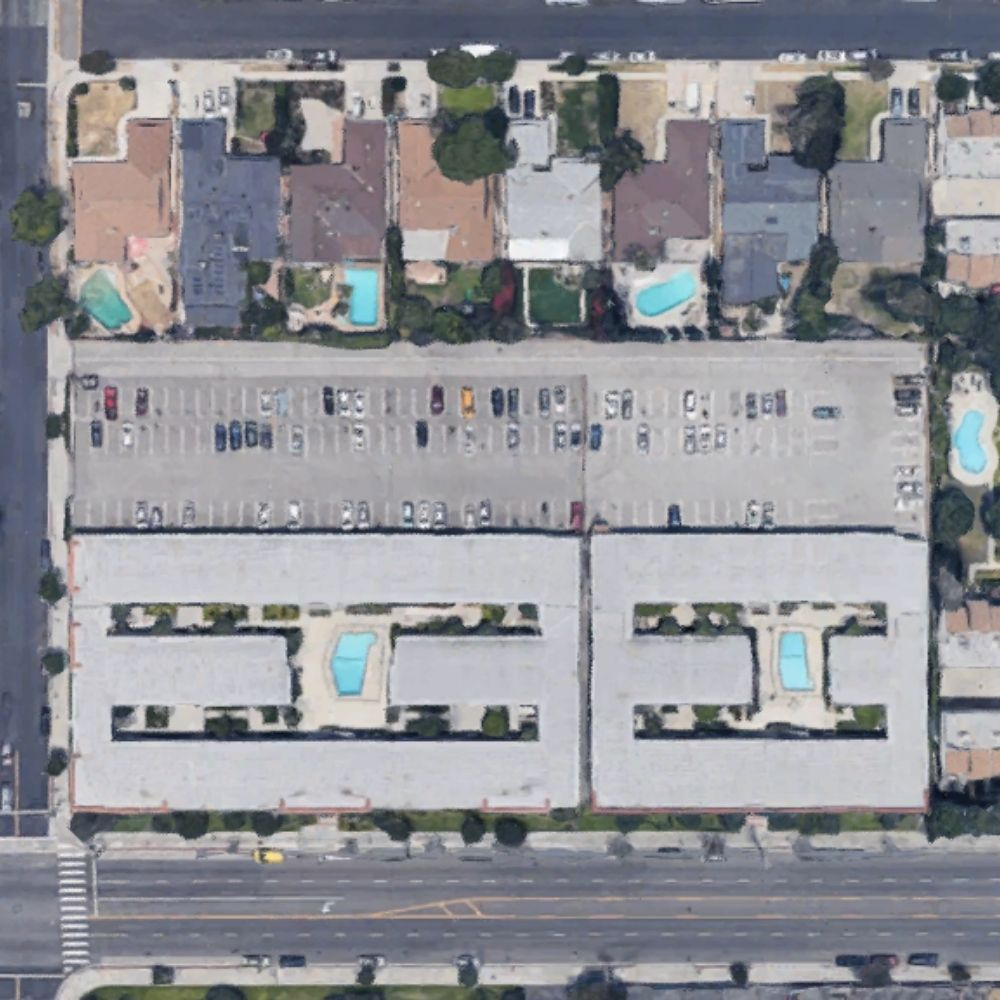parking: (70, 375, 925, 530)
